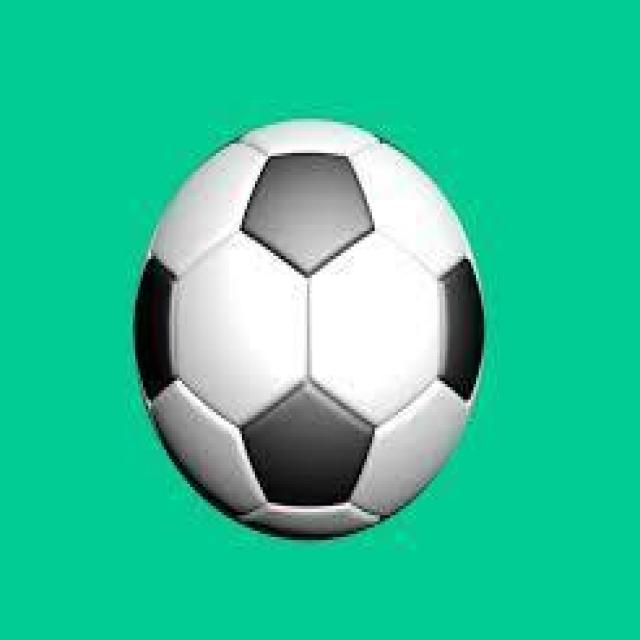Soccer Ball: (140, 115, 487, 534)
